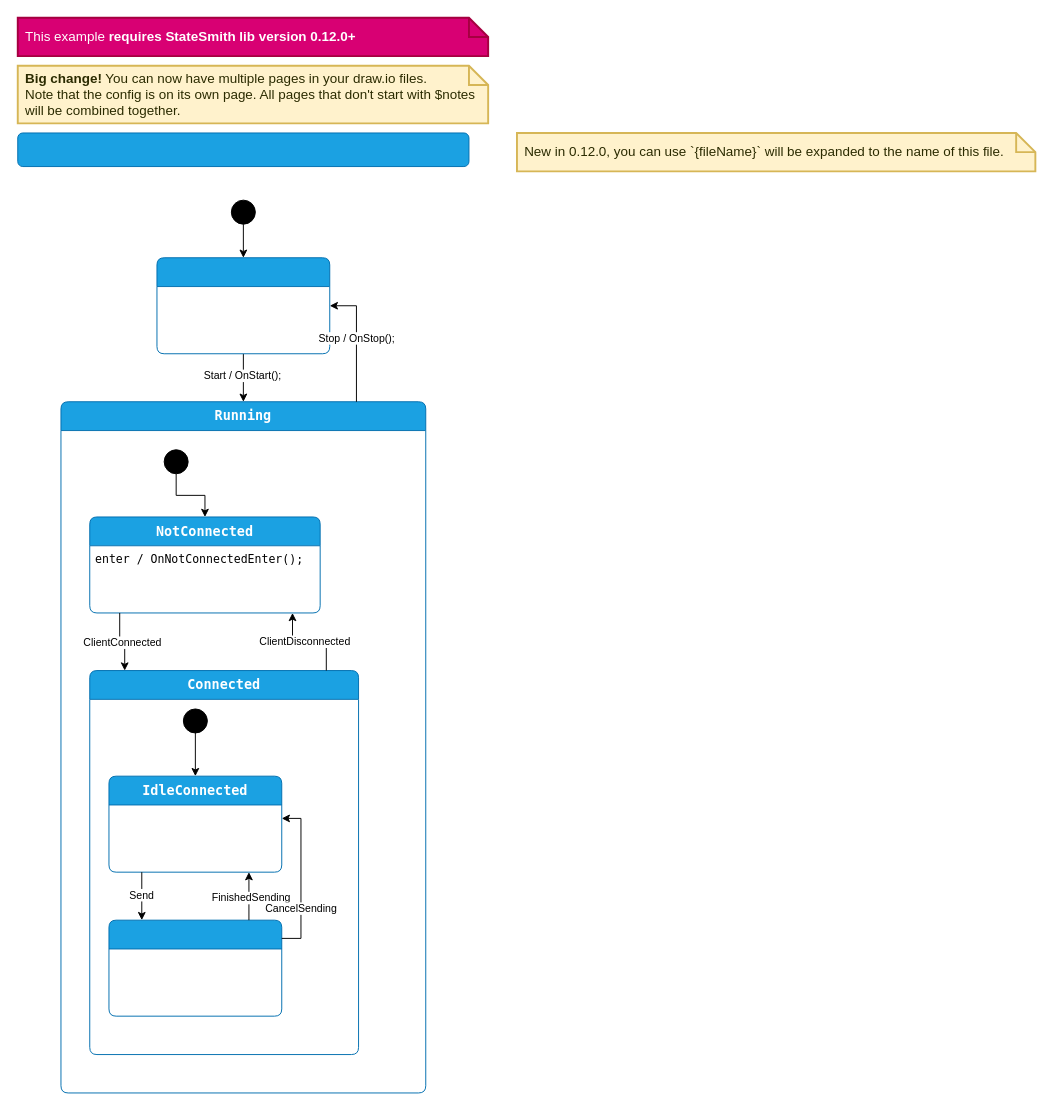
This 1052x1110 diagram has some shape labels left out. Here are the shapes that lost their labels. From the top down, the box of each, then its label:
(17, 132, 469, 167): $STATEMACHINE : ServerStateMachine
(156, 257, 330, 354): Idle
(108, 919, 282, 1016): Sending
